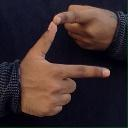hand: (18, 19, 110, 117), (52, 3, 117, 50)
